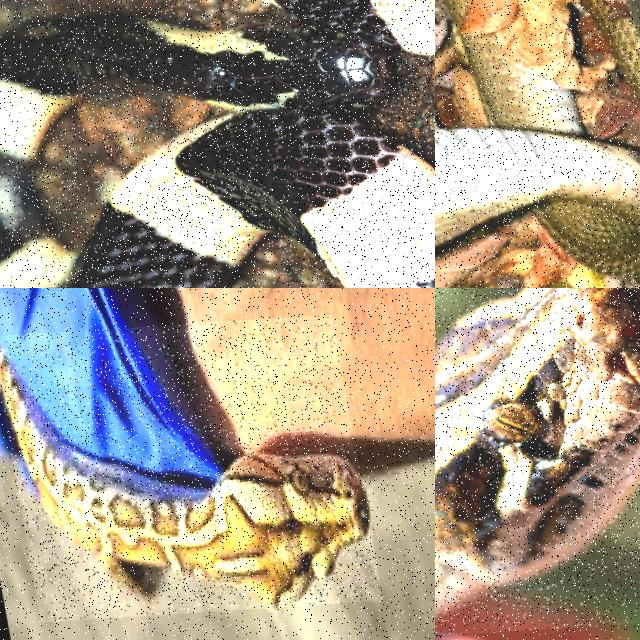Bungarus fasciatus: (0, 0, 434, 287)
Naja siamensis: (435, 36, 639, 282)
Python bivittatus: (0, 347, 368, 606), (435, 288, 639, 611)
